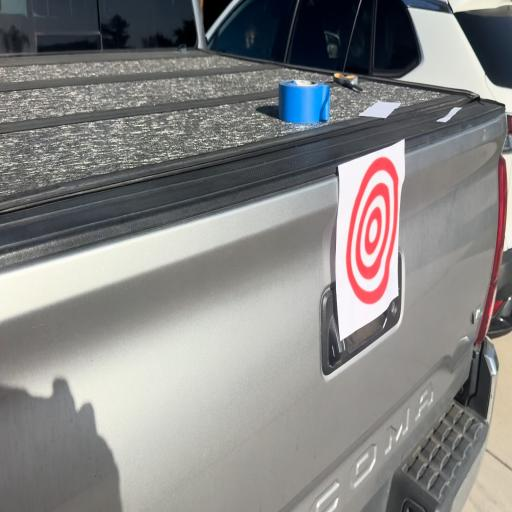bullseye: (339, 141, 405, 341)
